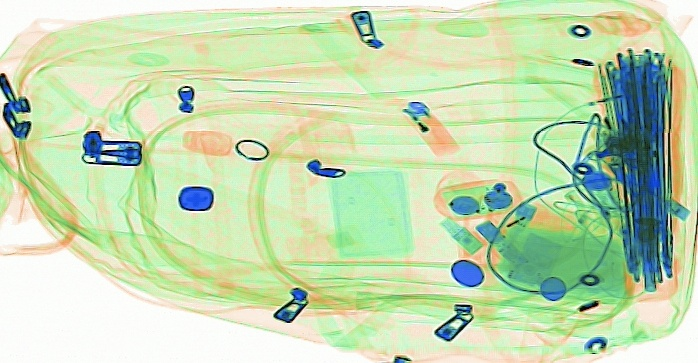lighter: (398, 98, 460, 157)
